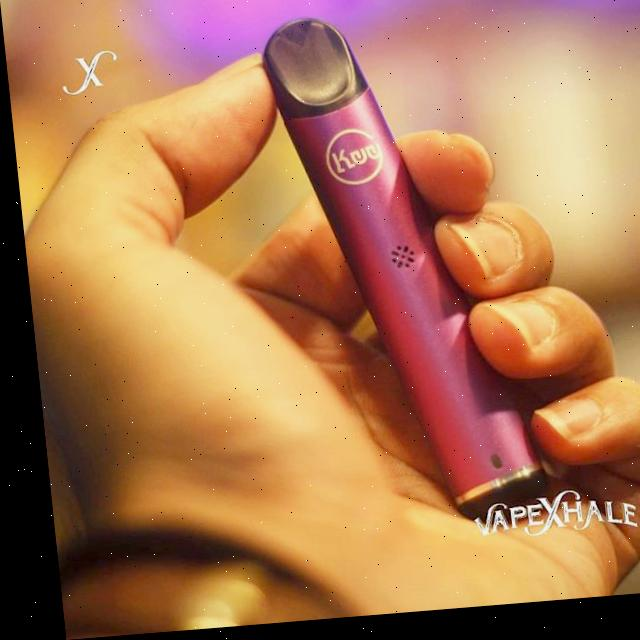vape: (260, 10, 539, 528)
